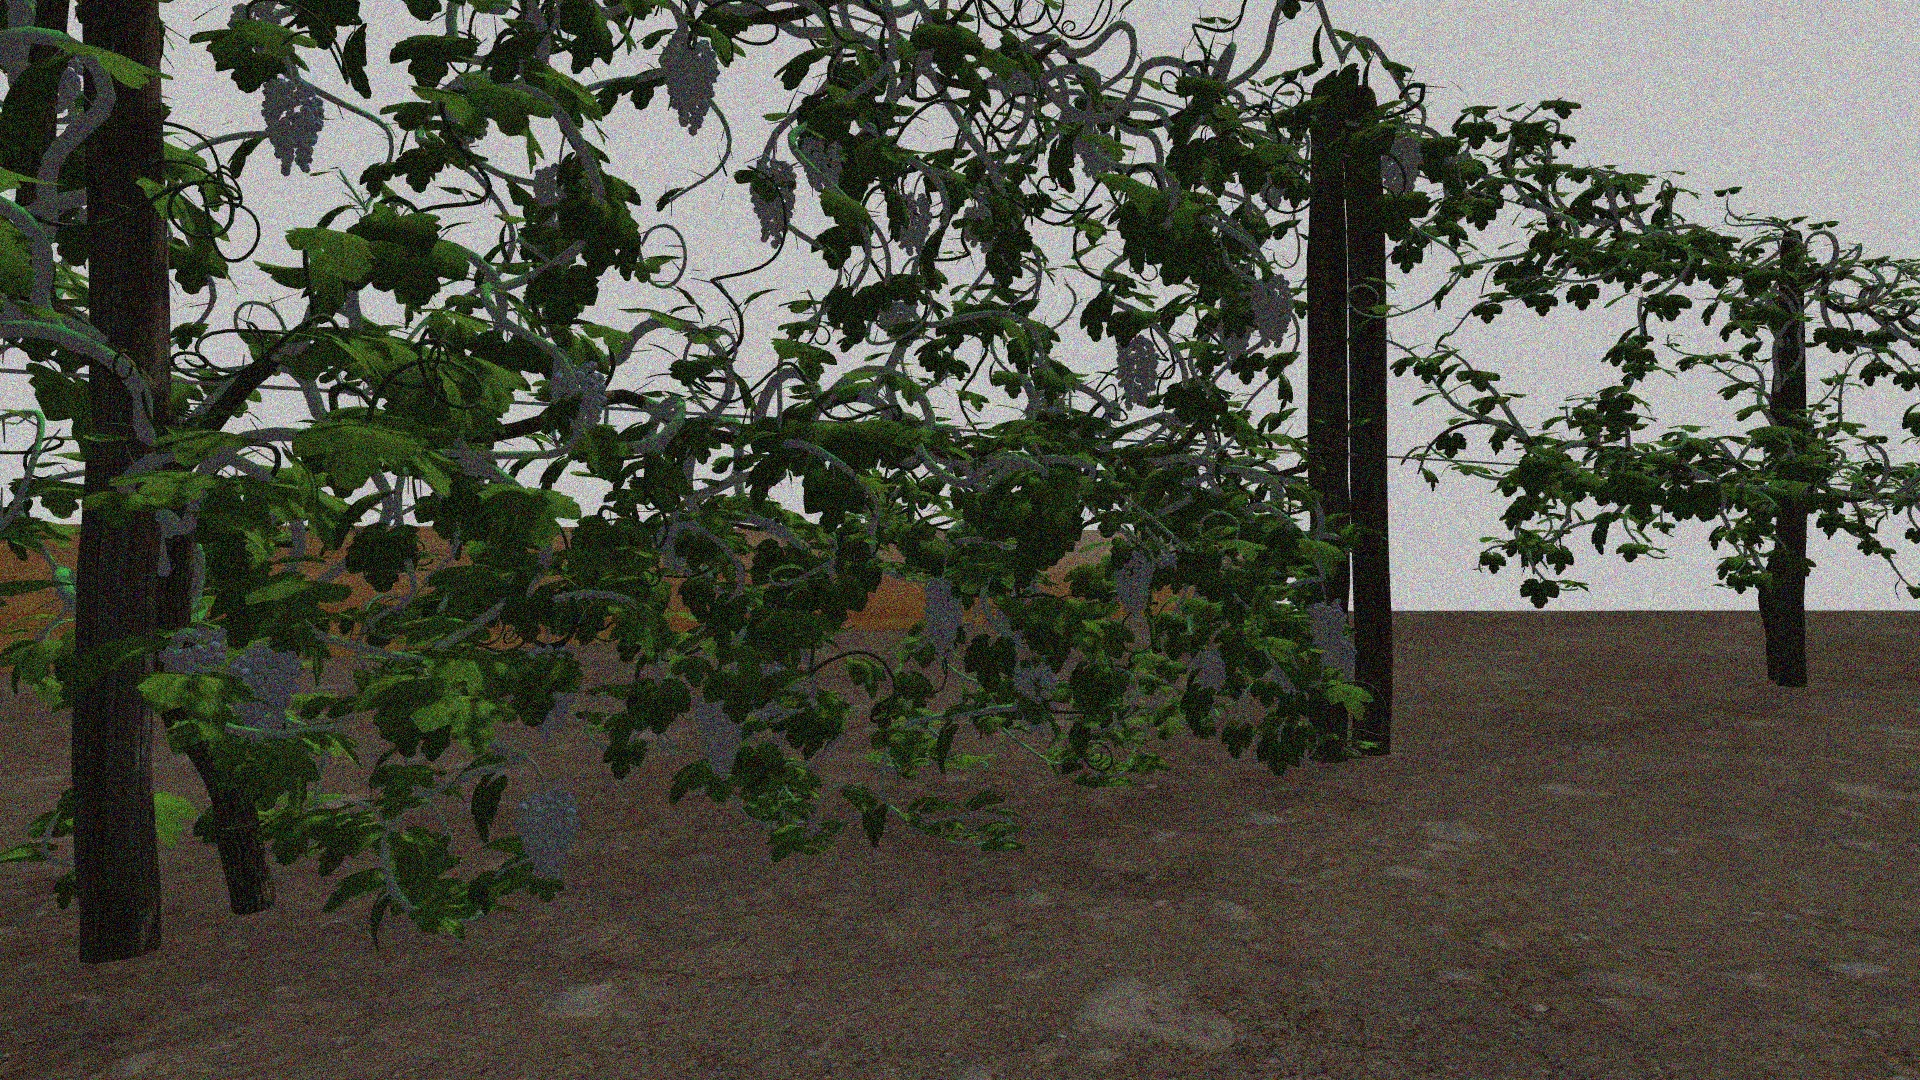grape: (225, 641, 305, 745), (258, 76, 324, 175), (514, 785, 579, 884), (662, 38, 720, 138), (551, 357, 607, 455), (746, 157, 796, 252), (694, 698, 746, 782), (158, 618, 229, 680), (922, 576, 964, 661), (1250, 270, 1294, 349), (887, 189, 934, 258), (1110, 549, 1156, 617), (1117, 335, 1159, 407), (1072, 125, 1120, 186), (1011, 642, 1058, 704), (799, 132, 843, 194), (1379, 132, 1423, 193), (1189, 640, 1226, 695), (1307, 601, 1348, 650), (1317, 646, 1358, 683)
